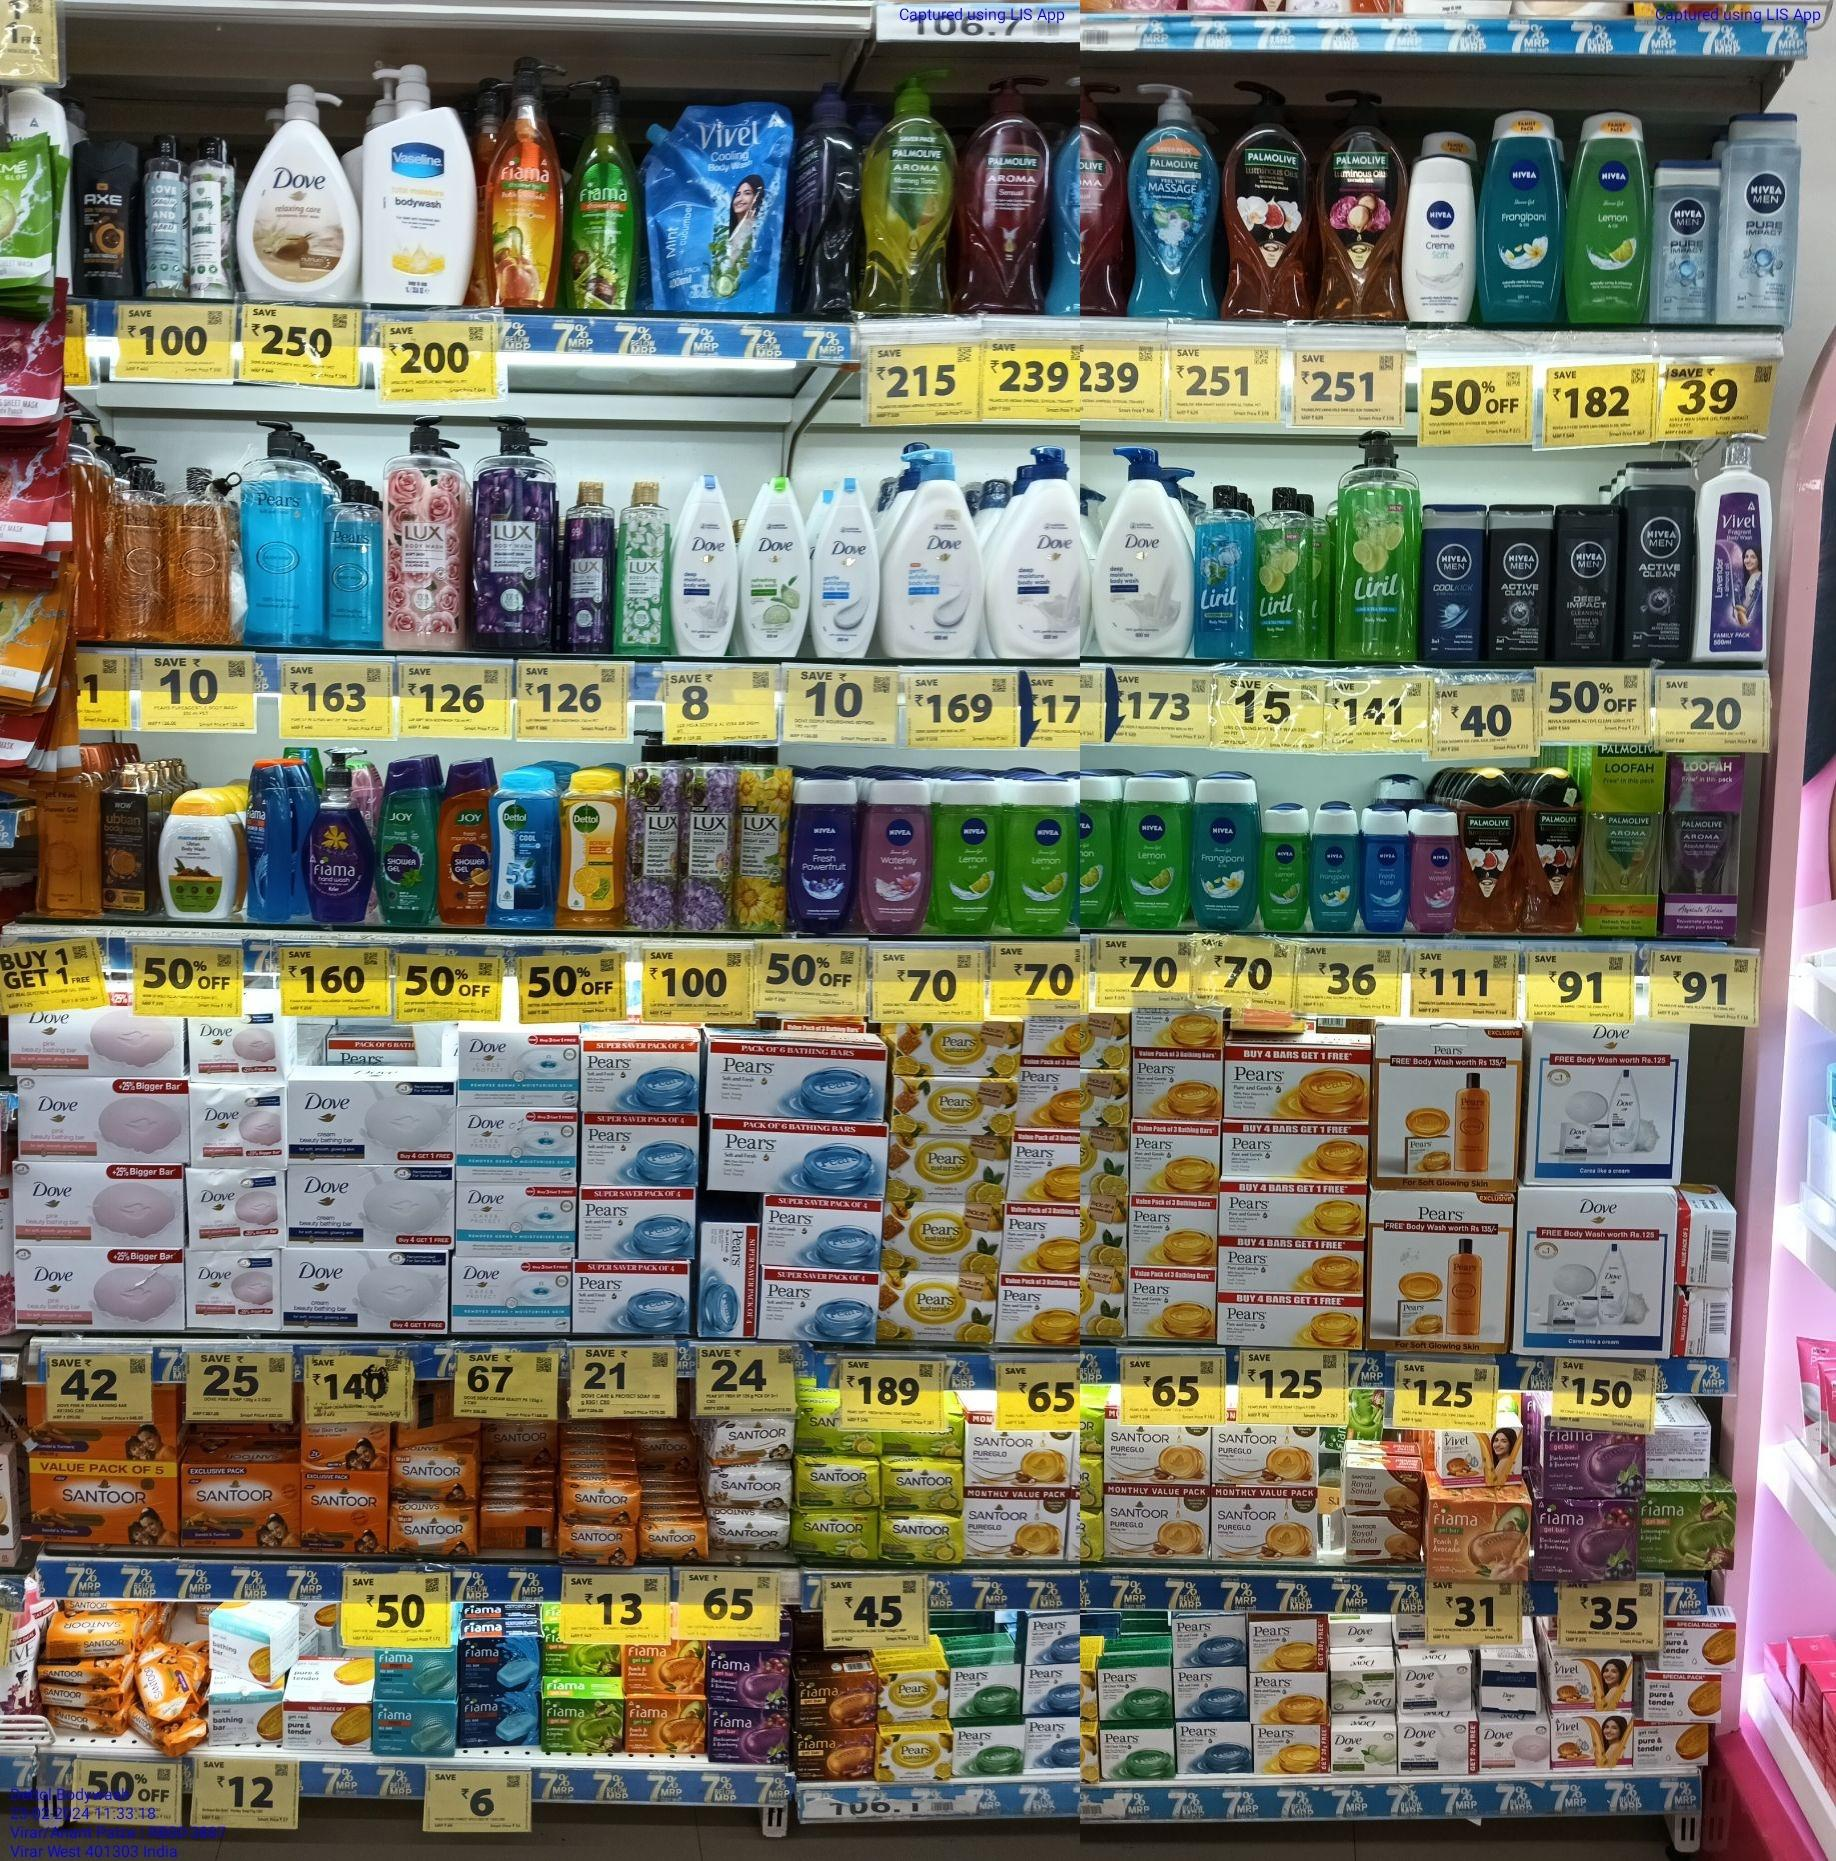Dettol_Bodywash_Cool: (488, 773, 555, 926)
Dettol_Bodywash_Refresh: (558, 768, 625, 930)
Dove_Deep_Moisture_Body_Wash_250ML: (671, 476, 733, 657)
Dove_Gentle_Exfoliating_Body_Wash_250ML: (807, 472, 873, 659)
Dove_Refreshing_Body_Wash_250ML: (738, 476, 809, 659)
Joy_Shower_Gel_Mandarin_and_Lemongrass_250ML: (435, 762, 486, 921)
Joy_Shower_Gel_Mint_and_Eucalyptus_250ML: (380, 760, 432, 925)
Liril_Cooling_Mint_Body_Wash_250ML: (1197, 484, 1253, 657)
Liril_Lime_and_Tea_Tree_Oil_Body_Wash_250ML: (1254, 484, 1311, 657)
Lux_Black_Orchid_Scent_and_Juniper_Oil_Body_Wash_245ML: (567, 482, 612, 651)
Lux_Body_Wash_Skin_Detox_Freesia_Scent_and_Alove_Vera_245ML: (615, 479, 669, 651)
Nivea_Creme_Soft_Body_Wash_250ML: (1409, 155, 1476, 324)
Nivea_Shower_Gel_Frangipani_and_Oil_250ML: (1481, 111, 1559, 326), (1194, 780, 1258, 931)
Nivea_Shower_Gel_Fresh_Powerfruit_250ML: (792, 772, 856, 926)
Nivea_Shower_Gel_Lemon_and_Oil_250ML: (1565, 108, 1644, 321), (928, 773, 1002, 936), (1116, 775, 1187, 930), (1009, 773, 1074, 938)
Nivea_Shower_Gel_Waterlily_and_Oil_250ML: (861, 768, 926, 931)
Palmolive_Luminous_Oils_With_White_Orchid_Shower_Gel_250ML: (1522, 770, 1582, 931), (1458, 767, 1515, 933)
